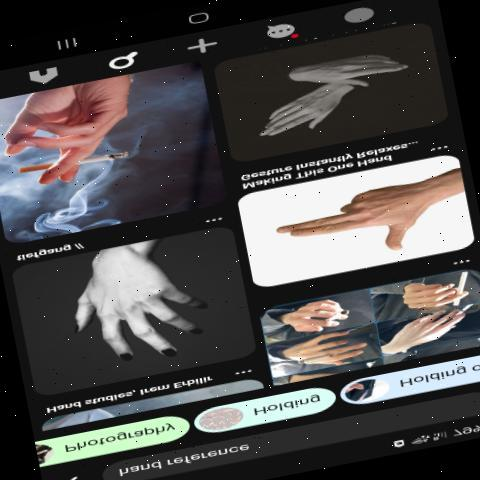Hands: (263, 161, 457, 272), (55, 250, 221, 373), (279, 50, 436, 98), (249, 84, 368, 144)
